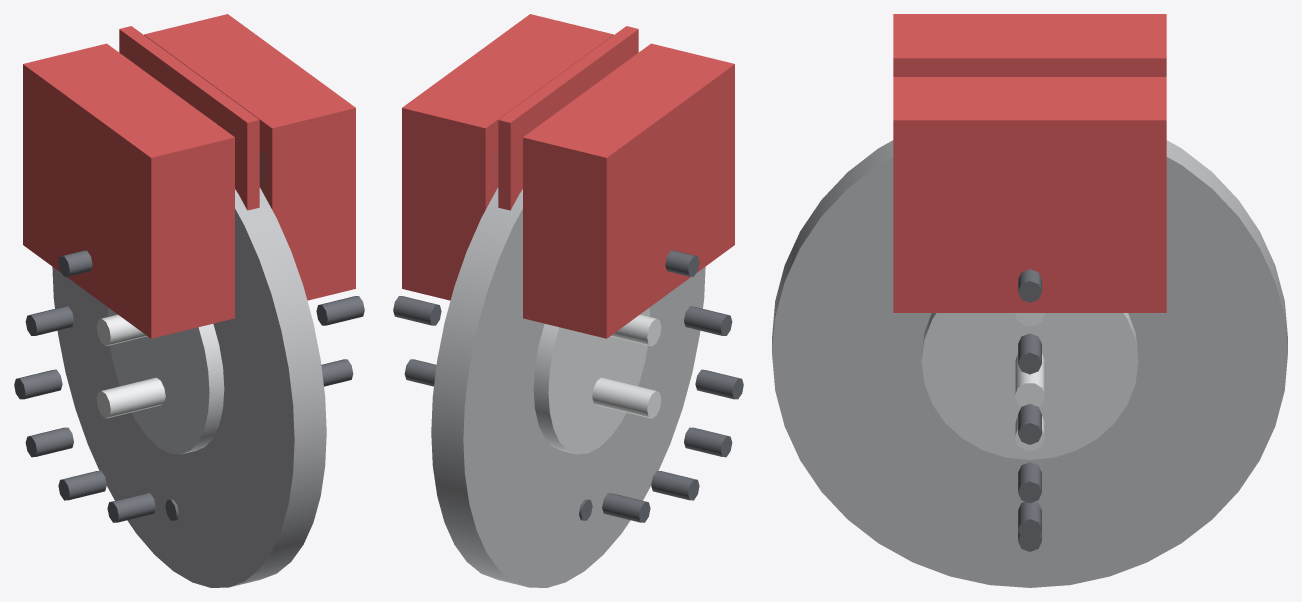
Rendered from rbrakes.glb.
3 views of the same model, side by side, from view 1: azimuth 30°, elevation 25°; view 2: azimuth 150°, elevation 25°; view 3: azimuth 270°, elevation 25° (orthographic). The views are drawn at different scales.
Parts seen in each view (by area): view 1: disc, caliperInner, caliperOuter, hat, caliperBridge, stud_3, drill_8, drill_9, drill_10, drill_0, drill_7, drill_11 (+3 smaller); view 2: disc, caliperInner, caliperOuter, hat, caliperBridge, stud_3, drill_8, drill_9, drill_10, drill_0, drill_7, drill_11 (+3 smaller); view 3: disc, caliperOuter, hat, caliperInner, caliperBridge, stud_0, drill_1, drill_15, drill_0, drill_14, drill_2.
Part boxes in pixels (x1,y1,x2,y2): disc: (52,187,326,587); caliperInner: (23,43,234,338); caliperOuter: (144,14,355,300); hat: (108,308,224,454); caliperBridge: (119,26,259,210); stud_3: (96,377,165,418); drill_8: (14,369,62,399); drill_9: (25,427,73,457); drill_10: (58,470,106,500); drill_0: (316,296,364,325); drill_7: (25,306,73,335); drill_11: (107,493,155,522); disc: (431,187,705,587); caliperInner: (523,43,734,338); caliperOuter: (402,14,613,300); hat: (533,308,649,454); caliperBridge: (498,26,638,210); stud_3: (592,377,661,418); drill_8: (695,369,743,399); drill_9: (684,427,732,457); drill_10: (651,470,699,500); drill_0: (393,296,441,325); drill_7: (684,306,732,335); drill_11: (602,493,650,522); disc: (772,140,1287,587); caliperOuter: (893,77,1166,312); hat: (921,313,1138,459); caliperInner: (893,14,1166,51); caliperBridge: (893,51,1166,76); stud_0: (1014,354,1045,406); drill_1: (1018,333,1041,374); drill_15: (1018,462,1041,503); drill_0: (1018,404,1041,444); drill_14: (1018,501,1041,540); drill_2: (1018,269,1041,302).
Bounding box in the file's own units: 1.37 × 1.91 × 1.7.
